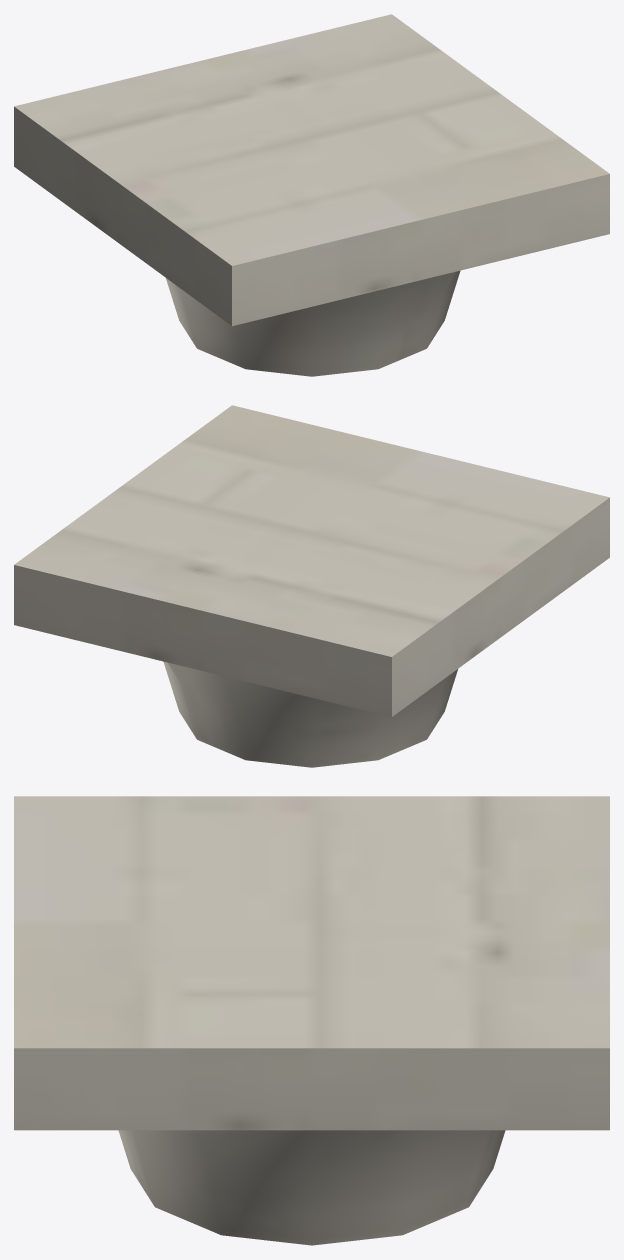
File: debris_dc_capital.glb
3 renders of one model, top to bottom at view 1: azimuth 30°, elevation 25°; view 2: azimuth 150°, elevation 25°; view 3: azimuth 270°, elevation 25°, orthographic. The views are drawn at different scales.
Parts seen in each view (by area): view 1: debris_dc_capital; view 2: debris_dc_capital; view 3: debris_dc_capital.
Part boxes in pixels (box(x1,y1,x2,y2)): debris_dc_capital: box(14, 14, 609, 376); debris_dc_capital: box(14, 405, 609, 767); debris_dc_capital: box(14, 796, 609, 1245).
Size of the model in its own units: 2.3 by 1.05 by 2.3.
Materials: 1 (1 with a texture image).
